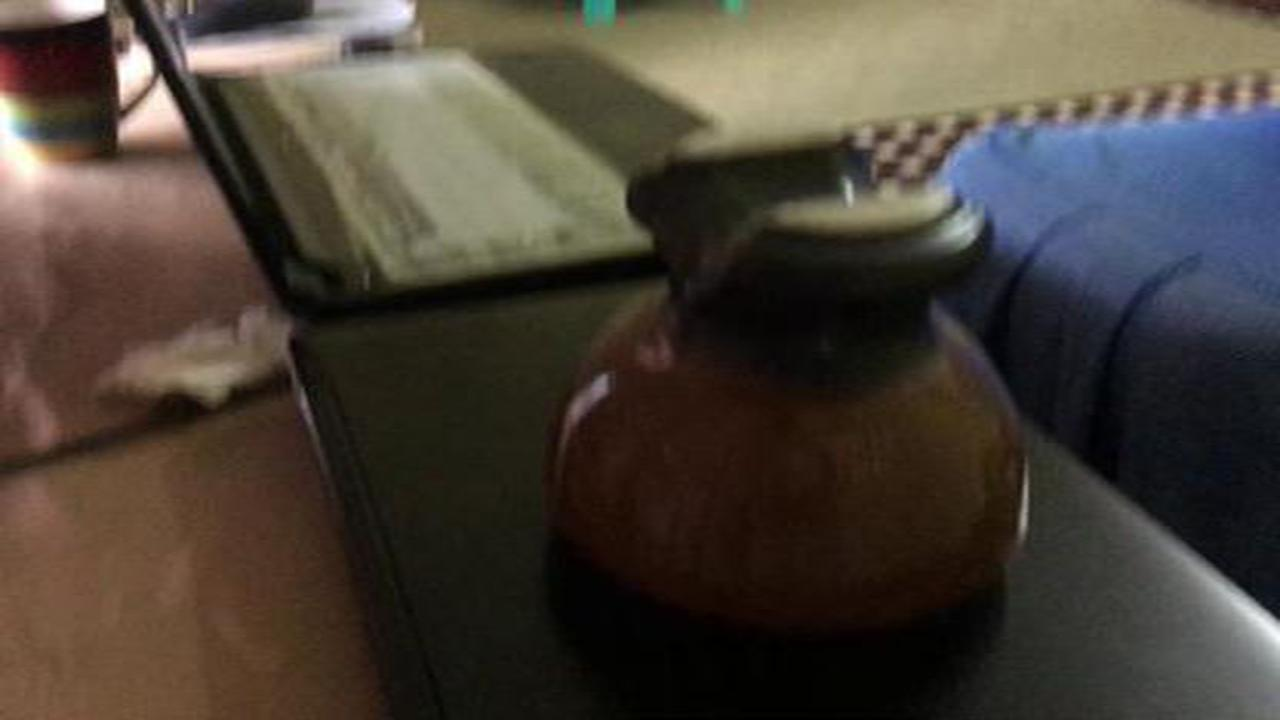insulator_pin: (524, 106, 1053, 667)
